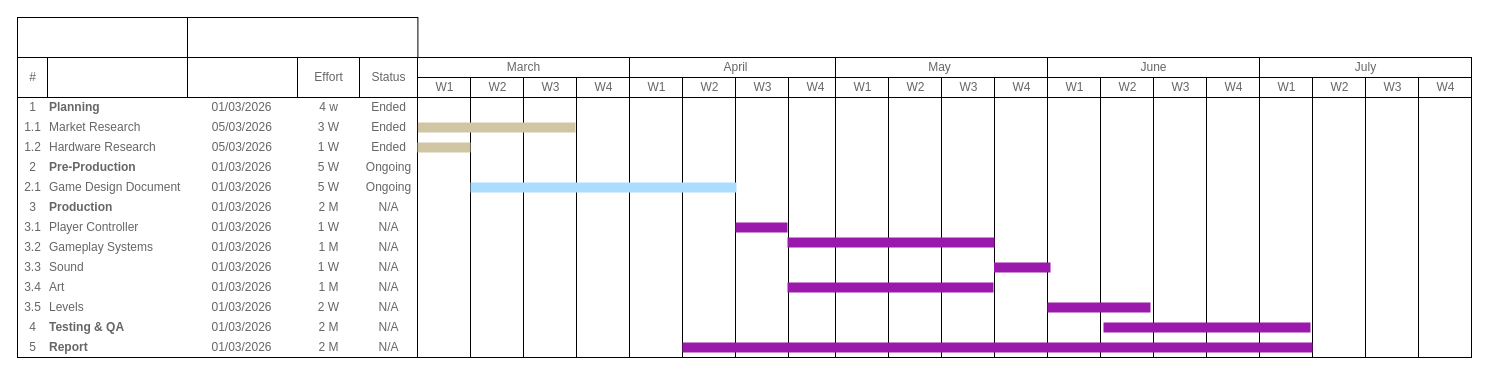
Image size: 1489x375. Some labels were removed from this diagram. The centre of each missing label's shape, as x and y in pixels:
13-24 Julho Discussões: (x=302, y=37)
Project Ego Fractum: (x=102, y=37)
Start: (x=242, y=77)
Task Name: (x=117, y=77)
